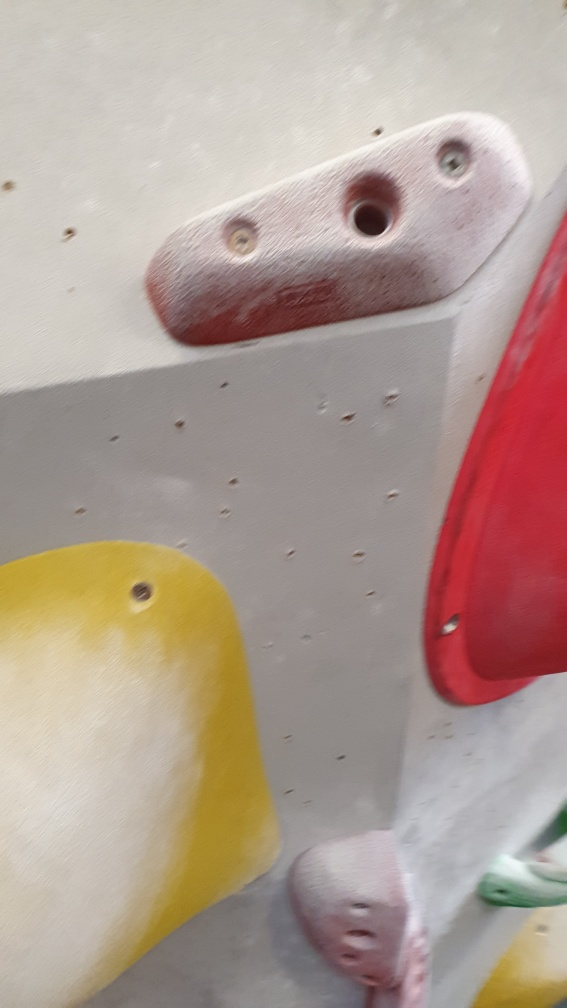Jug: (481, 800, 567, 914)
